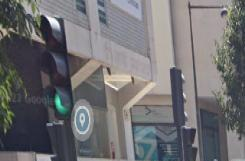green_light: (35, 14, 74, 119)
